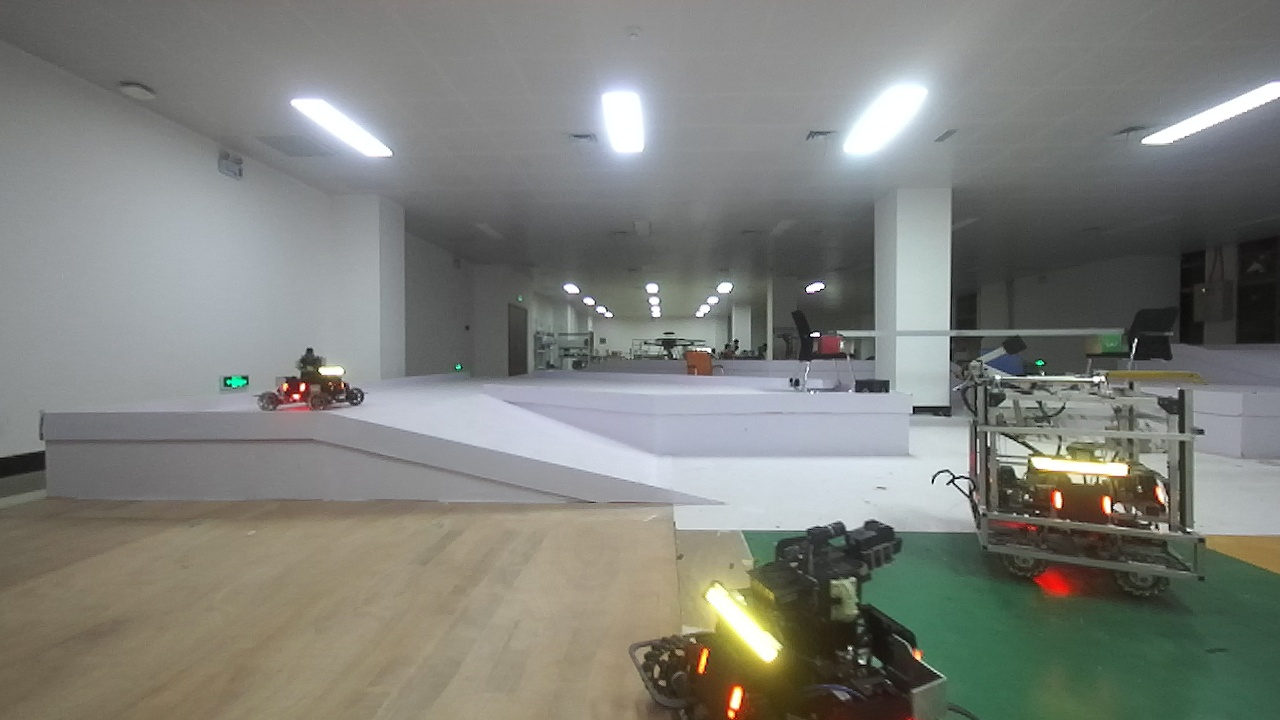car: (939, 345, 1224, 605), (635, 510, 958, 720), (243, 336, 378, 424)
